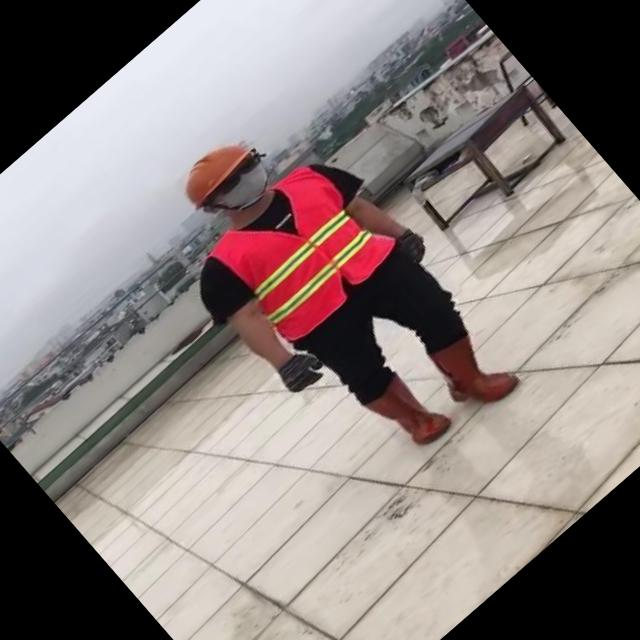hard_hat: (164, 122, 264, 216)
safety_vest: (198, 152, 402, 352)
vehicle: (118, 74, 547, 518)
work_boots: (418, 317, 524, 424), (357, 362, 460, 466)
